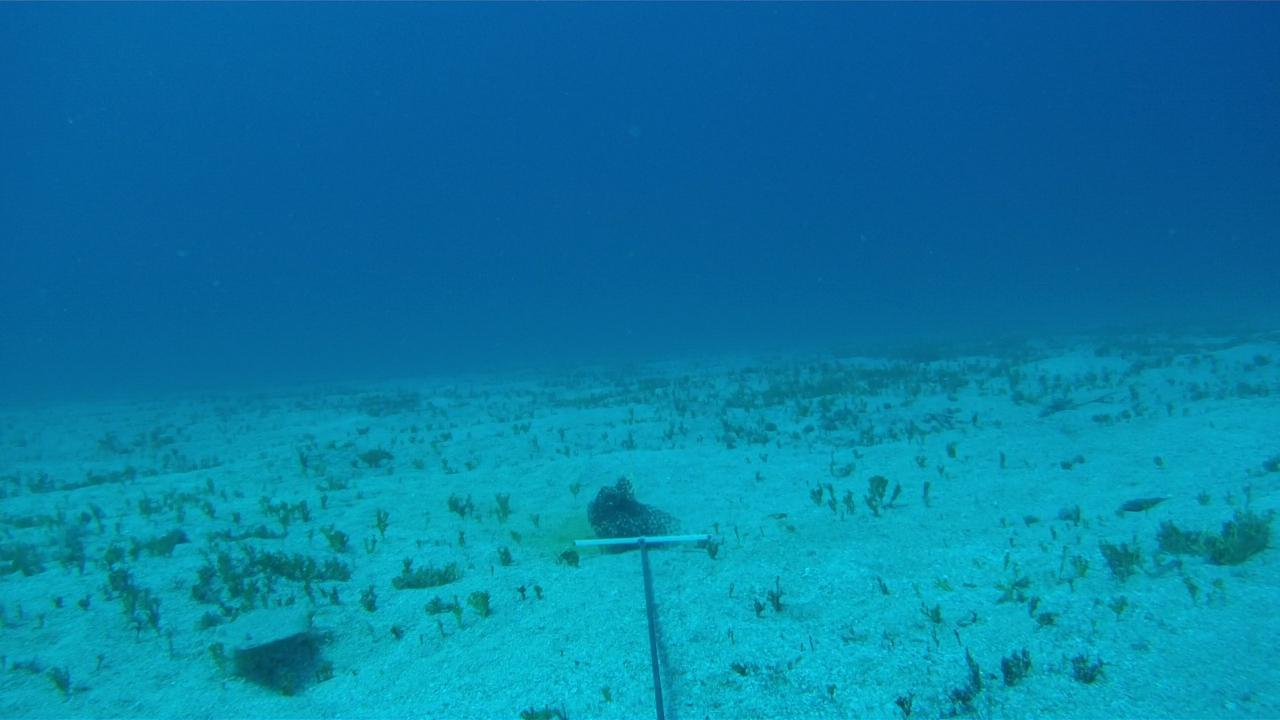bothus: (214, 598, 316, 656)
